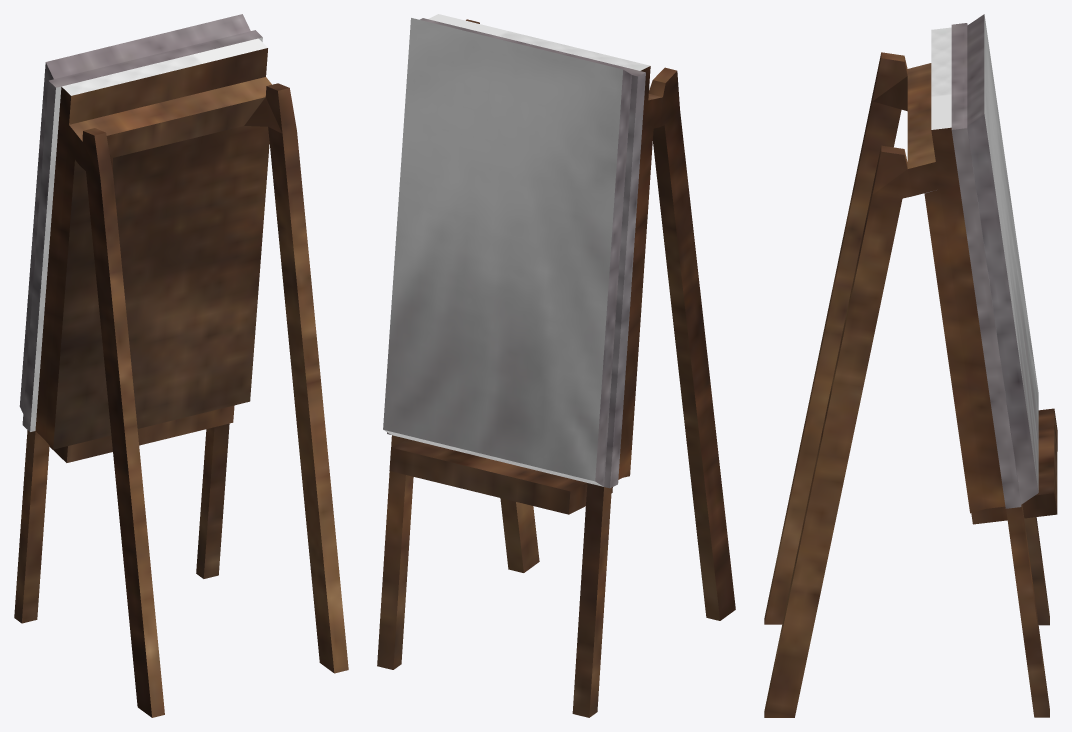
File: pintura.fbx
3 views of the same model, side by side, from view 1: azimuth 30°, elevation 25°; view 2: azimuth 150°, elevation 25°; view 3: azimuth 270°, elevation 25° (orthographic). The views are drawn at different scales.
Parts seen in each view (by area): view 1: pintura; view 2: pintura; view 3: pintura.
Part boxes in pixels (box(x1,y1,x2,y2)): pintura: box(14, 14, 348, 717); pintura: box(377, 14, 735, 717); pintura: box(764, 14, 1057, 717).
Bounding box in the file's own units: 124 × 330 × 145.
Materials: 1 (1 with a texture image).
